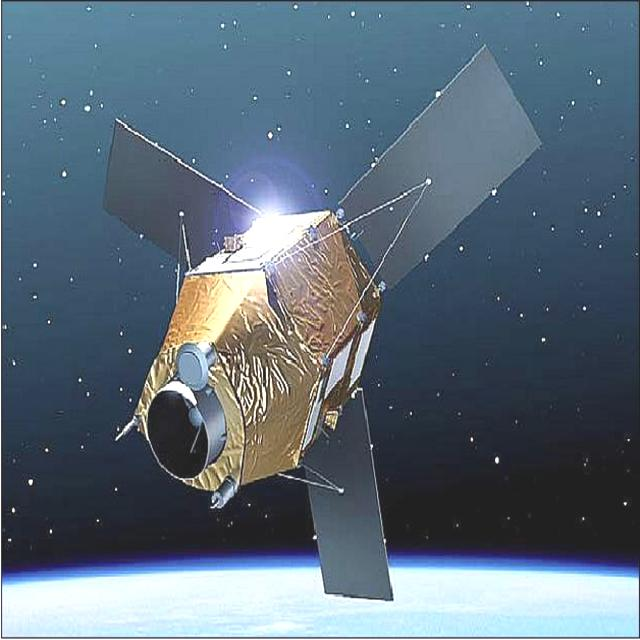medium_debris: (93, 35, 552, 619)
